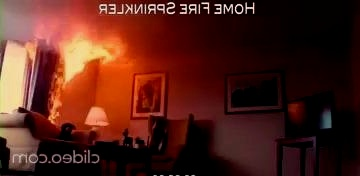fire: (33, 19, 131, 118)
